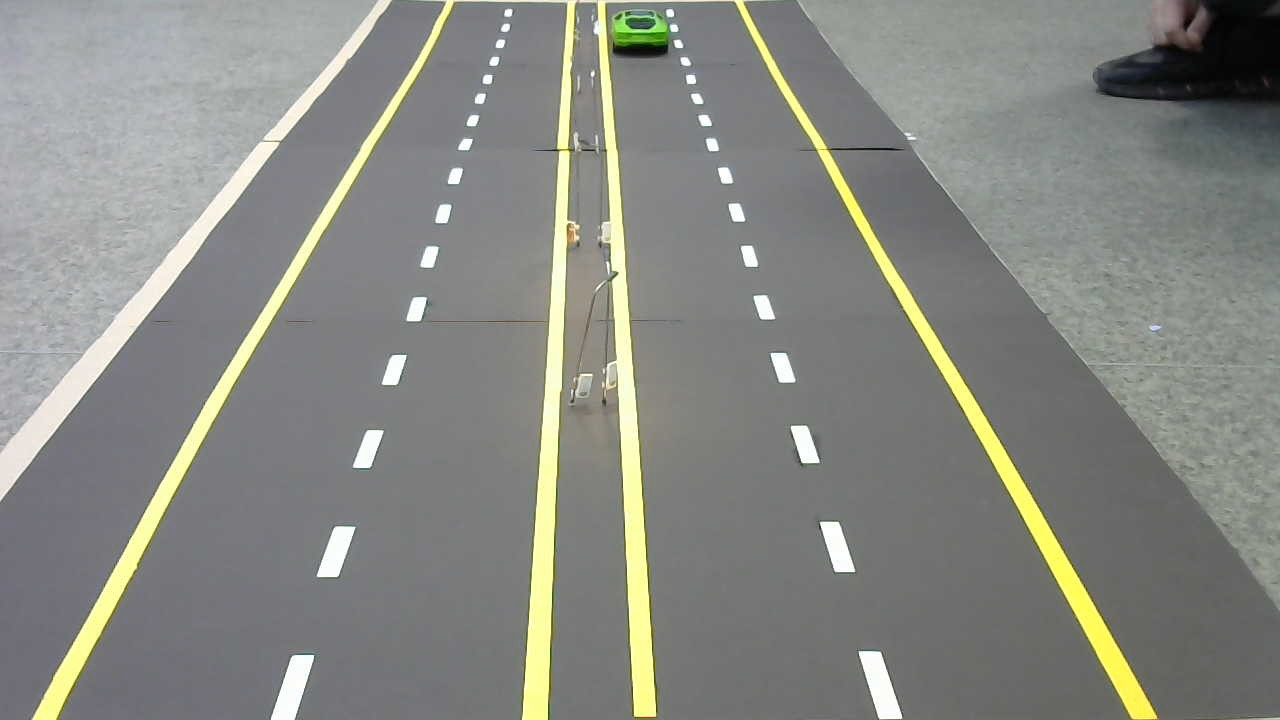back_car: (609, 6, 676, 63)
